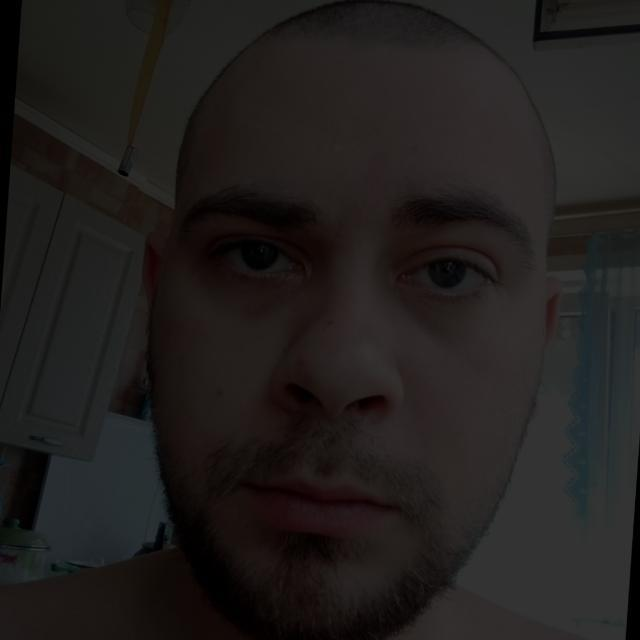Natural: (143, 89, 580, 628)
